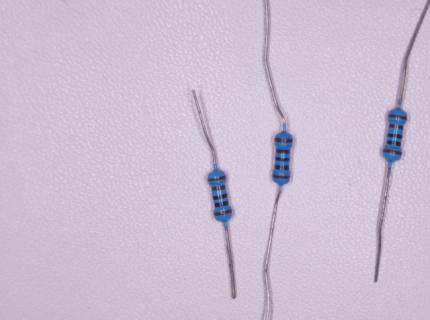Brown band: (389, 123, 403, 130), (211, 185, 226, 191), (276, 149, 290, 154)
